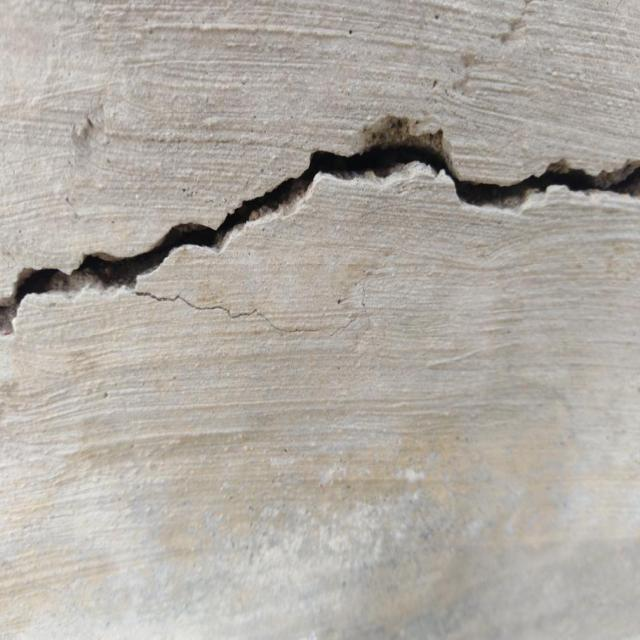horizontal crack: (0, 111, 639, 336), (132, 267, 376, 354)
